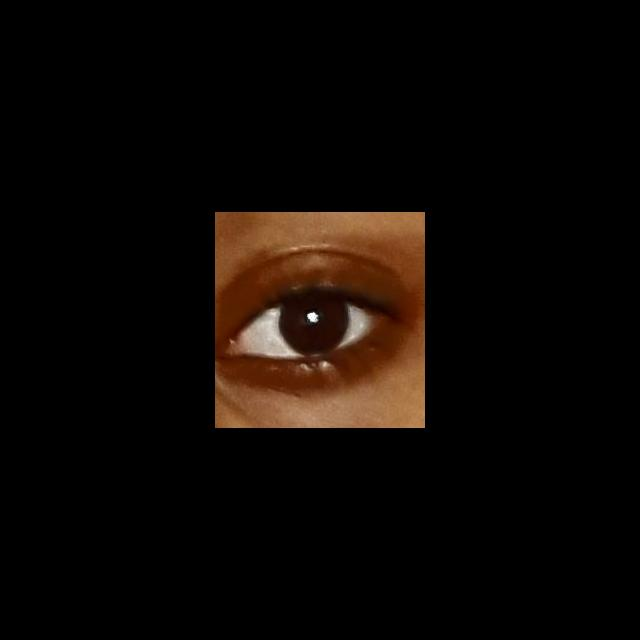eye: (235, 295, 383, 357)
iris: (278, 300, 349, 357)
